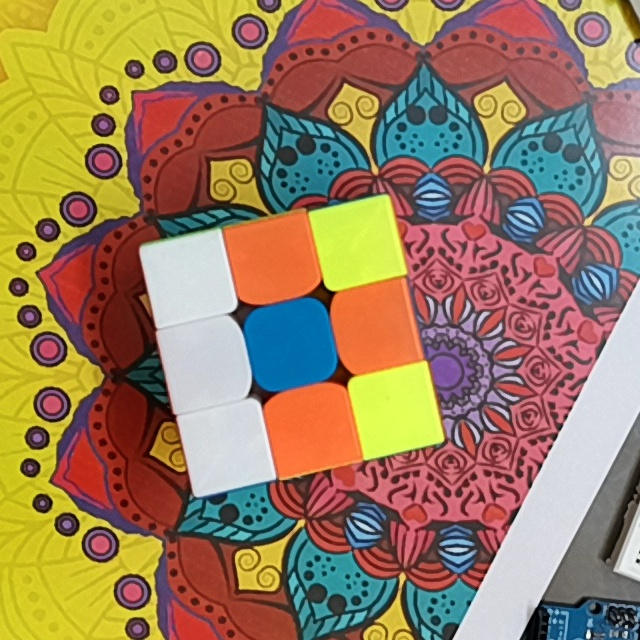tile: (256, 313, 325, 377), (192, 416, 262, 479), (174, 330, 239, 396), (240, 228, 306, 292), (344, 294, 407, 360), (281, 396, 347, 459), (326, 210, 393, 272), (159, 246, 222, 311), (365, 379, 430, 441)
